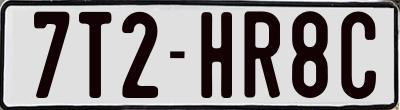2: (121, 10, 161, 97)
7: (34, 11, 70, 98)
8: (289, 9, 327, 97)
C: (338, 9, 377, 103)
H: (199, 10, 236, 100)
R: (242, 9, 284, 100)
T: (77, 10, 114, 99)
